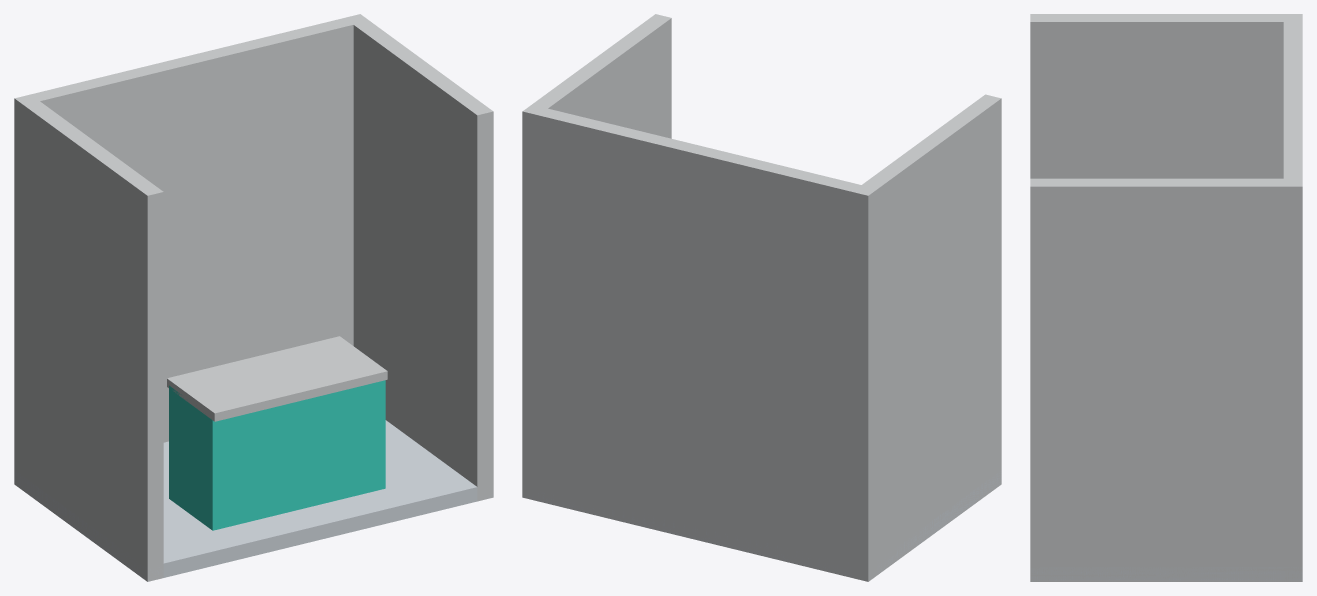
The picture shows the model from 3 angles, left to right: view 1: azimuth 30°, elevation 25°; view 2: azimuth 150°, elevation 25°; view 3: azimuth 270°, elevation 25°; orthographic projection. The views are drawn at different scales.
Parts seen in each view (by area): view 1: Exhibition Booth Concept; view 2: Exhibition Booth Concept; view 3: Exhibition Booth Concept.
Boxes of the visible parts, x1=… form: Exhibition Booth Concept: x1=14, y1=14, x2=493, y2=581; Exhibition Booth Concept: x1=522, y1=14, x2=1001, y2=581; Exhibition Booth Concept: x1=1030, y1=14, x2=1302, y2=581.
Bounding box in the file's own units: 3 × 3.2 × 2.
